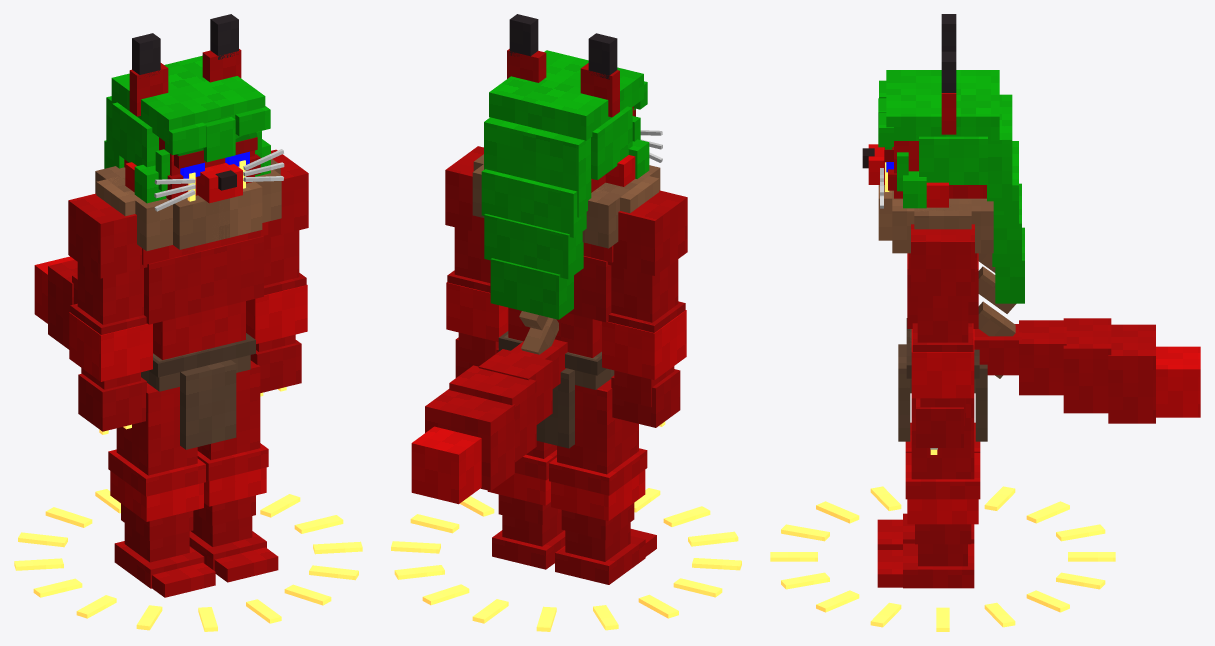
Rendered from beastfolk_s2_evo3.glb.
The picture shows the model from 3 angles, left to right: view 1: azimuth 30°, elevation 25°; view 2: azimuth 150°, elevation 25°; view 3: azimuth 270°, elevation 25°; orthographic projection.
Parts seen in each view (by area): view 1: Torso, Head, ArmR, LegR, LegL, ArmL, Root; view 2: Head, Torso, ArmR, LegR, ArmL, Root, LegL; view 3: Torso, Head, ArmL, LegL, Root, LegR.
Part boxes in pixels (<box>): Torso: <box>34,159,281,449</box>; Head: <box>104,14,284,211</box>; ArmR: <box>68,193,152,434</box>; LegR: <box>108,383,215,597</box>; LegL: <box>189,360,278,582</box>; ArmL: <box>246,149,308,396</box>; Root: <box>14,489,362,631</box>; Head: <box>481,14,662,319</box>; Torso: <box>411,154,660,504</box>; ArmR: <box>602,190,687,427</box>; LegR: <box>549,379,656,584</box>; ArmL: <box>445,146,508,377</box>; Root: <box>391,488,741,631</box>; LegL: <box>487,441,565,569</box>; Torso: <box>878,185,1200,441</box>; Head: <box>862,14,1024,303</box>; ArmL: <box>911,224,974,454</box>; LegL: <box>877,398,980,588</box>; Root: <box>770,486,1115,631</box>; LegR: <box>877,422,980,549</box>.
Bounding box in the file's own units: 1.16 × 1.93 × 1.44.
32 materials, 32 textured.
